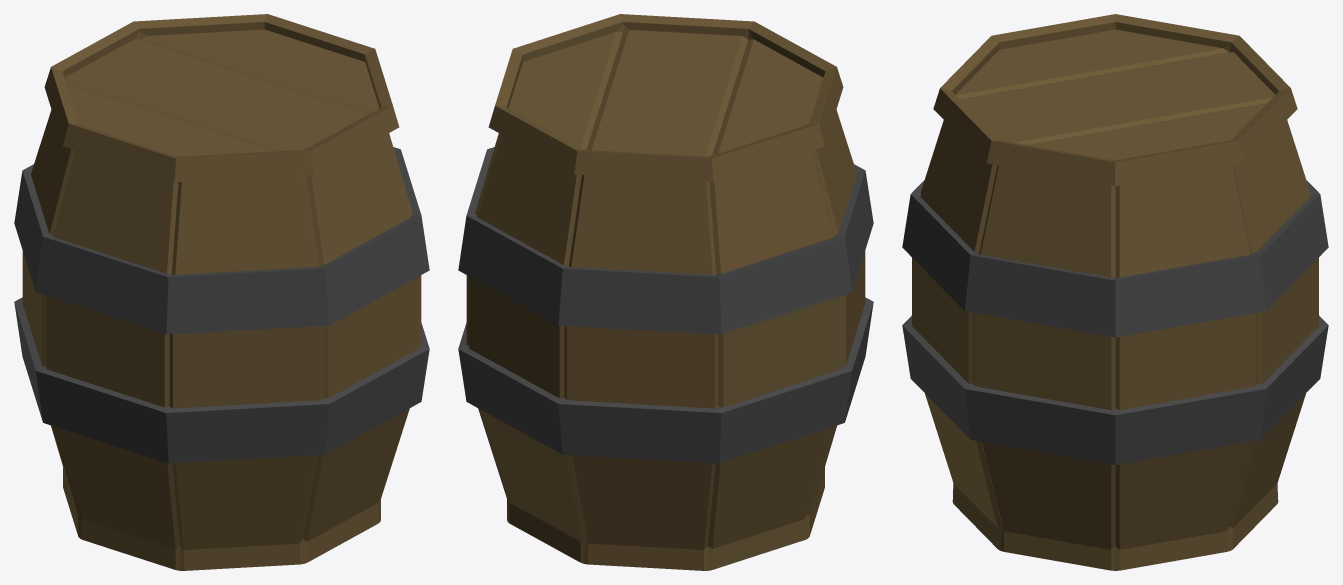
File: Barrel_Light_Brown.glb
3 views of the same model, side by side, from view 1: azimuth 30°, elevation 25°; view 2: azimuth 150°, elevation 25°; view 3: azimuth 270°, elevation 25° (orthographic).
Visible parts, largest first — view 1: Barrel_Light_Brown; view 2: Barrel_Light_Brown; view 3: Barrel_Light_Brown.
Part boxes in pixels (box(x1,y1,x2,y2)): Barrel_Light_Brown: box(14, 14, 429, 570); Barrel_Light_Brown: box(458, 14, 873, 570); Barrel_Light_Brown: box(902, 14, 1328, 570).
Bounding box in the file's own units: 2.6 × 2.79 × 2.6.
